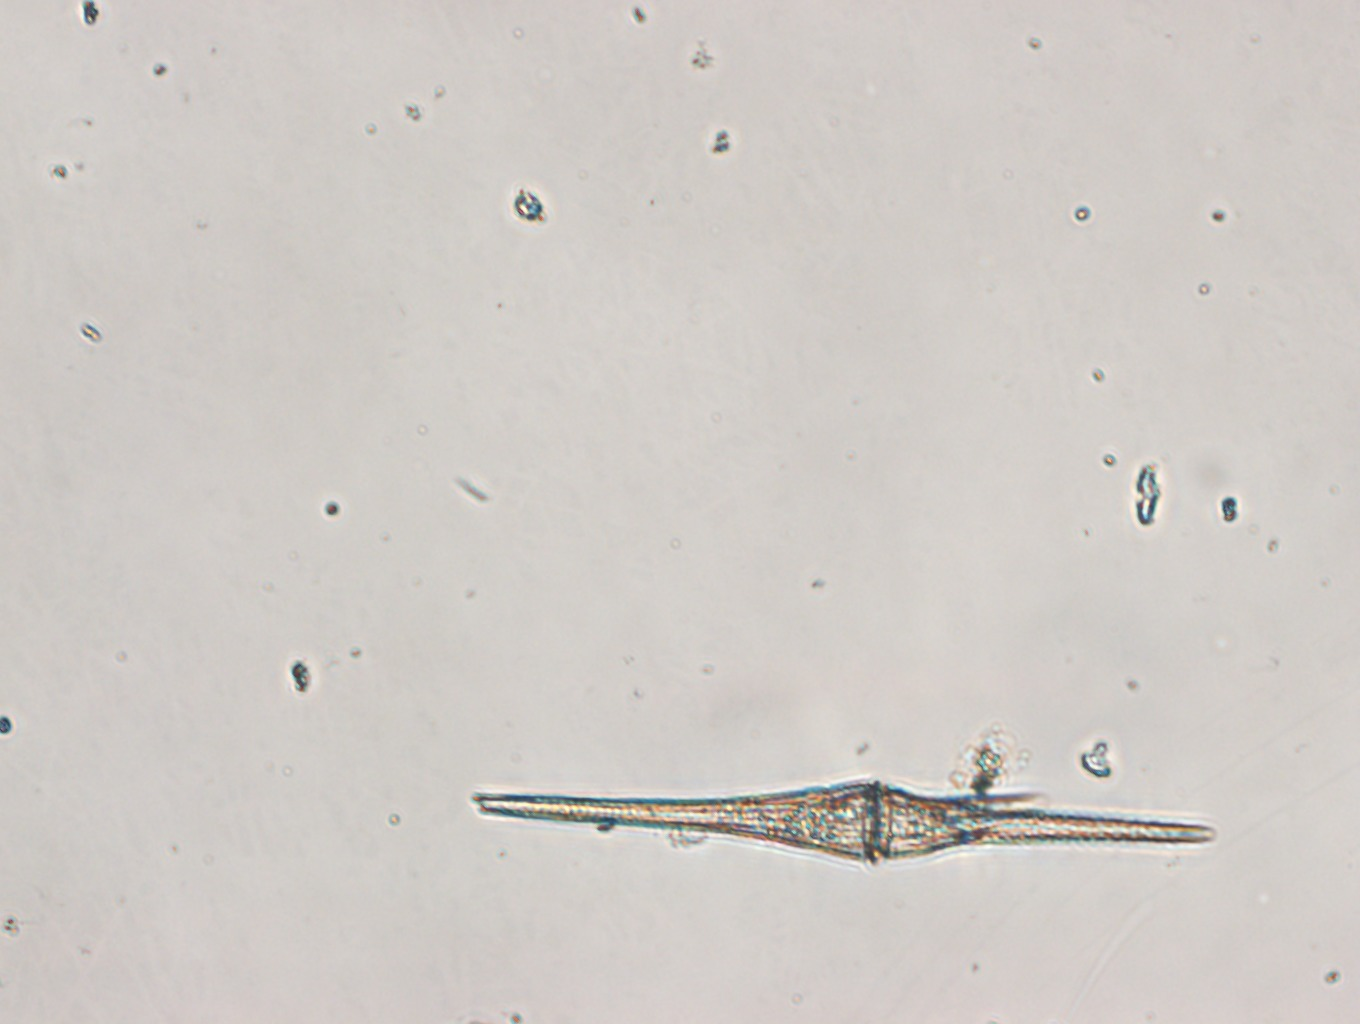ceratium furca: (477, 776, 1214, 862)
